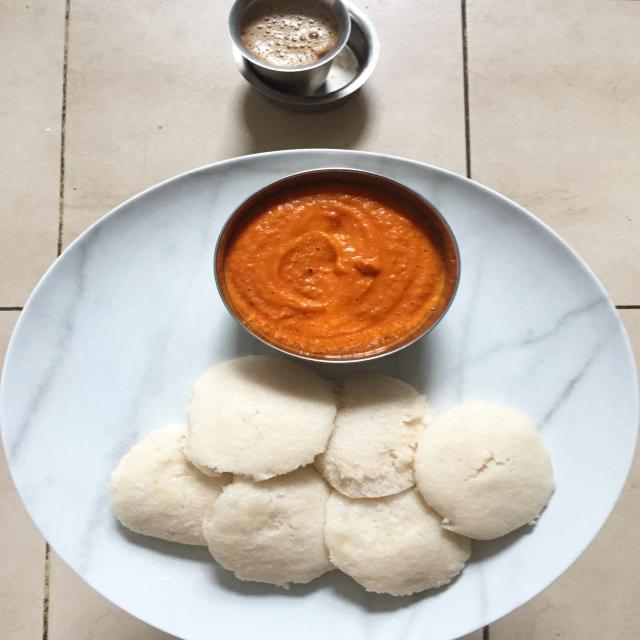idly: (412, 398, 556, 538), (185, 354, 337, 479), (186, 355, 336, 480), (204, 467, 335, 586), (325, 486, 465, 596), (316, 373, 430, 496), (110, 426, 218, 542)
kaara chutney: (216, 175, 463, 367)
tea: (226, 0, 381, 117)
